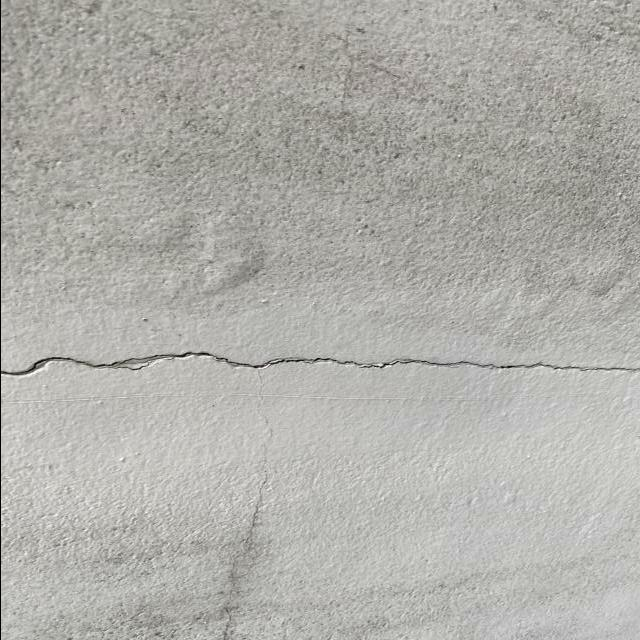SurfaceCrack: (189, 401, 305, 639)
